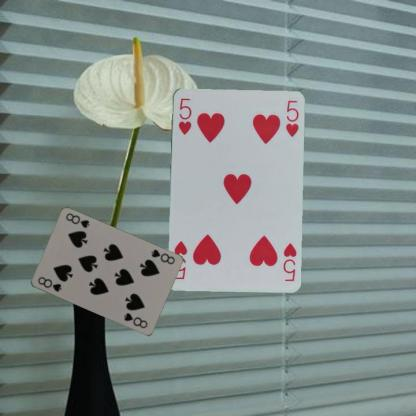5h: (280, 240, 298, 283), (176, 95, 193, 136)
8s: (148, 247, 176, 266), (35, 274, 62, 293)
